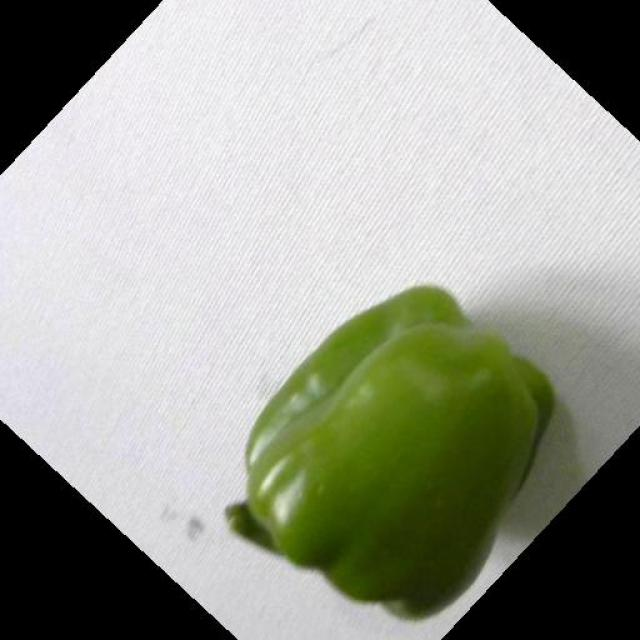Fresh_Capsicum: (238, 280, 538, 606)
